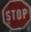Stop sign: (0, 0, 30, 31)
